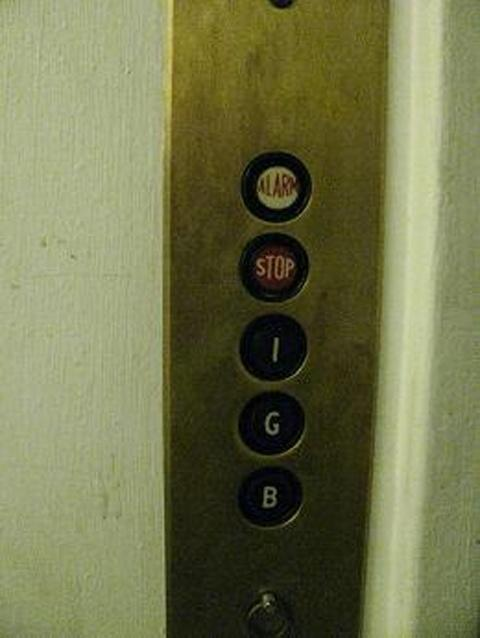1: (237, 308, 309, 382)
B: (235, 464, 304, 529)
G: (234, 388, 308, 457)
alarm: (237, 147, 314, 222)
stop: (237, 229, 312, 303)
